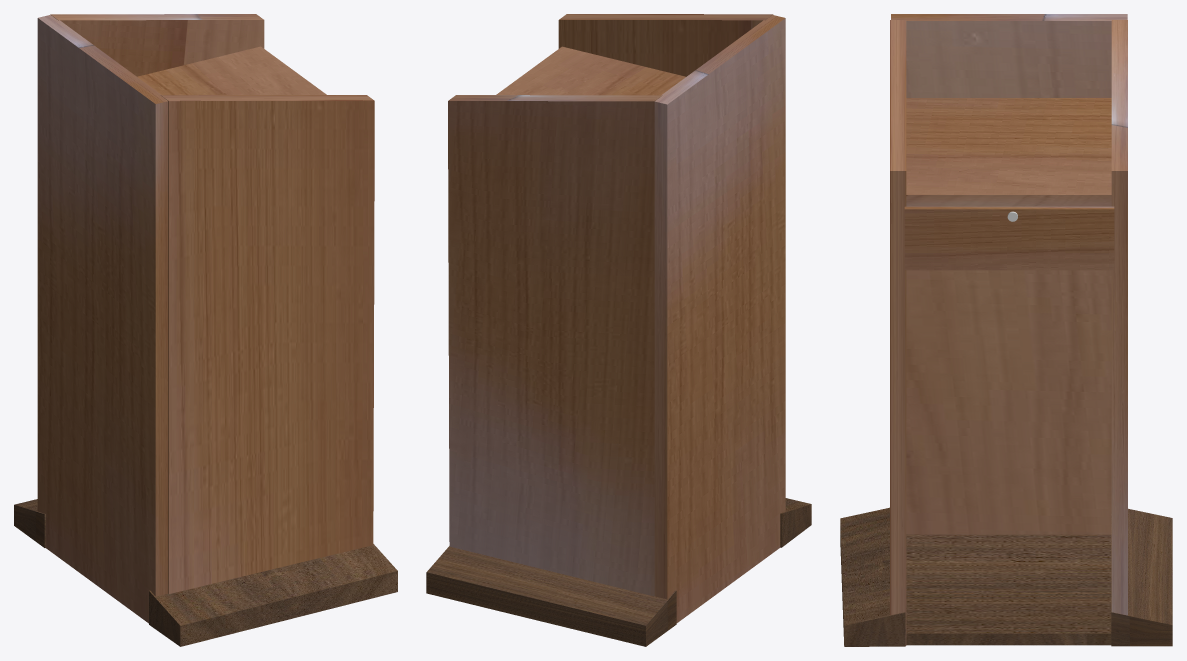
The model's file is podium.fbx.
3 renders of one model, left to right at view 1: azimuth 30°, elevation 25°; view 2: azimuth 150°, elevation 25°; view 3: azimuth 270°, elevation 25°, orthographic.
Visible parts, largest first — view 1: Cube.006; view 2: Cube.006; view 3: Cube.006.
Boxes of the visible parts, left/top/right/bottom form: Cube.006: left=14, top=14, right=397, bottom=646; Cube.006: left=426, top=14, right=811, bottom=646; Cube.006: left=840, top=14, right=1172, bottom=646.
Bounding box in the file's own units: 223 × 491 × 281.
Materials: 9 (8 with a texture image).
